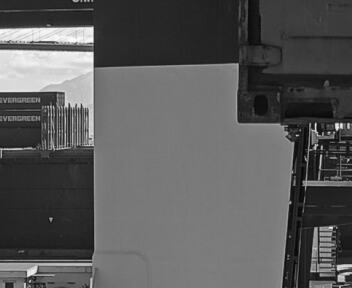twist_lock_2: (131, 158, 196, 209)
